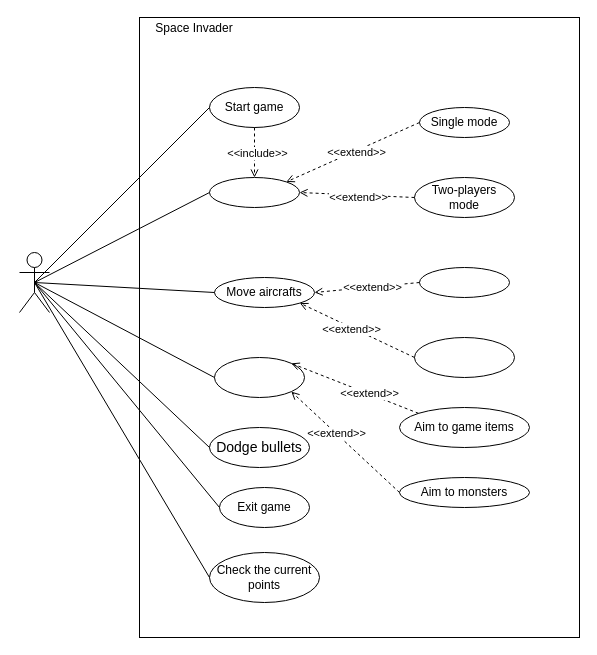
Image size: 597x655. Some labels were removed from this diagram. The shapes that lost their labels are listed below. From the top down, each one's centre as x and y in pixels, then its label:
pixel 254 192: Choose modes
pixel 34 282: Player
pixel 464 282: Move to left
pixel 259 377: Shoot bullets
pixel 464 357: Move to right
